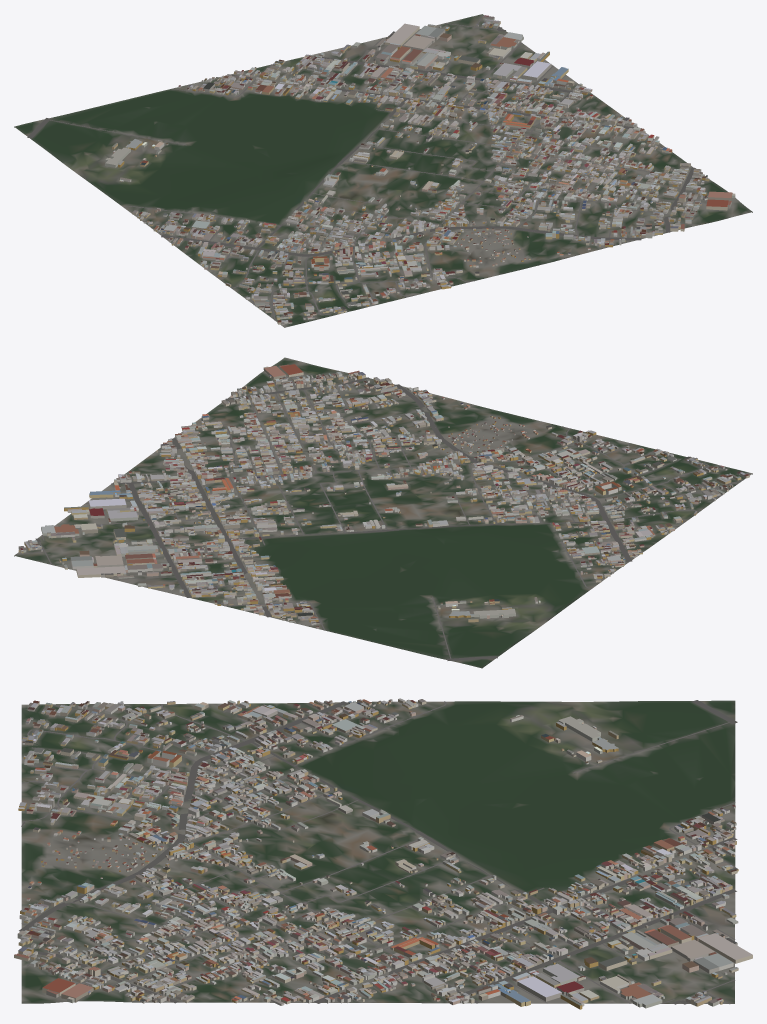
3 views of the same model, one above another, from view 1: azimuth 30°, elevation 25°; view 2: azimuth 150°, elevation 25°; view 3: azimuth 270°, elevation 25° (orthographic). The views are drawn at different scales.
Visible parts, largest first — view 1: ground, buildings, roads; view 2: ground, buildings, roads; view 3: ground, buildings, roads.
Part boxes in pixels (x1,y1,x2,y2): ground: (14,14,752,327); buildings: (105,15,735,325); roads: (27,15,701,320); ground: (14,357,752,668); buildings: (18,364,749,628); roads: (16,373,743,660); ground: (21,700,735,1003); buildings: (14,698,752,1009); roads: (19,700,737,1004).
Size of the model in its own units: 1431 by 24.28 by 1450.
